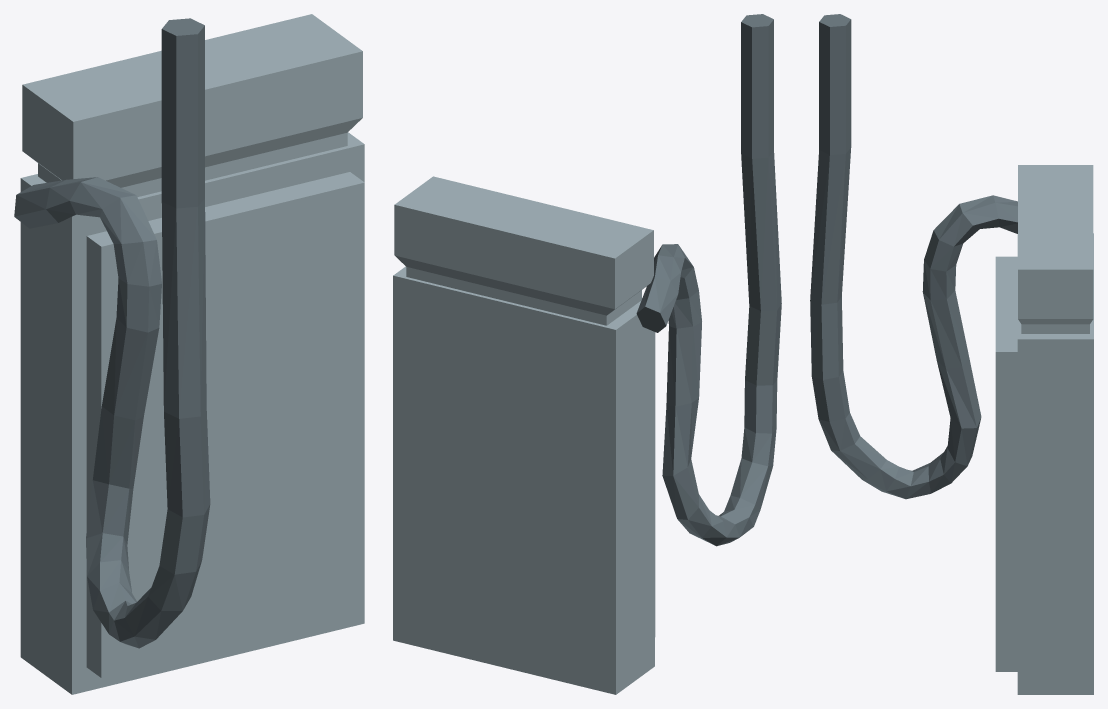
The model's file is what is this.glb.
3 views of the same model, side by side, from view 1: azimuth 30°, elevation 25°; view 2: azimuth 150°, elevation 25°; view 3: azimuth 270°, elevation 25° (orthographic). The views are drawn at different scales.
Visible parts, largest first — view 1: what is this; view 2: what is this; view 3: what is this.
Boxes of the visible parts, x1,y1,x2,y2 form: what is this: (14, 14, 364, 694); what is this: (393, 14, 781, 694); what is this: (810, 14, 1093, 694).
Size of the model in its own units: 0.2622 by 0.5713 by 0.2603.
